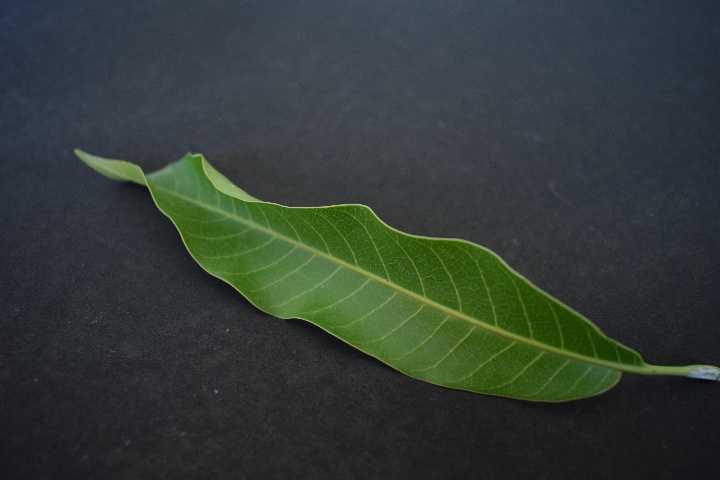healthy: (102, 147, 622, 419)
